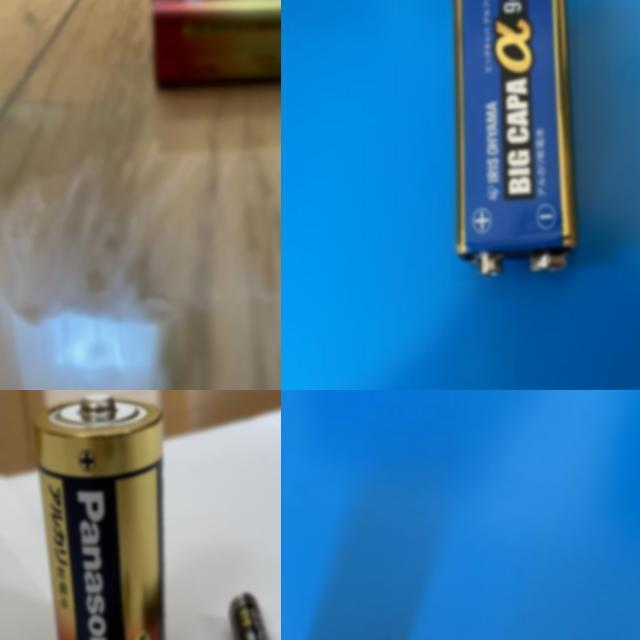9V: (451, 0, 578, 279), (147, 0, 281, 80)
